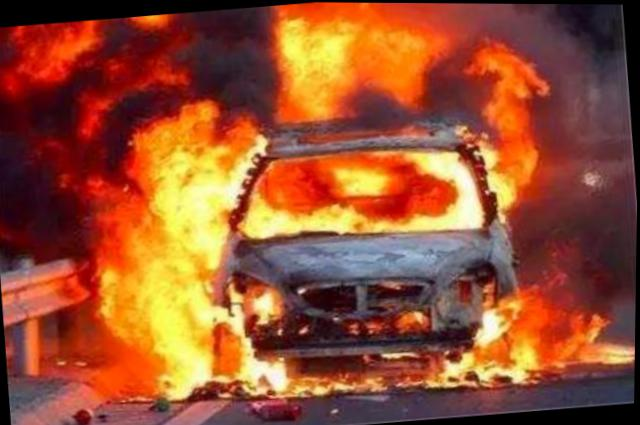fire: (32, 0, 633, 422)
